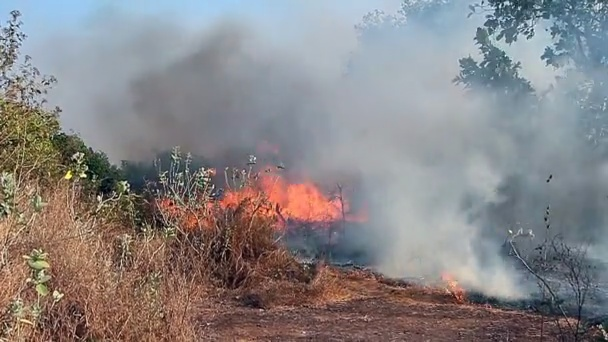fire: (62, 168, 72, 178)
